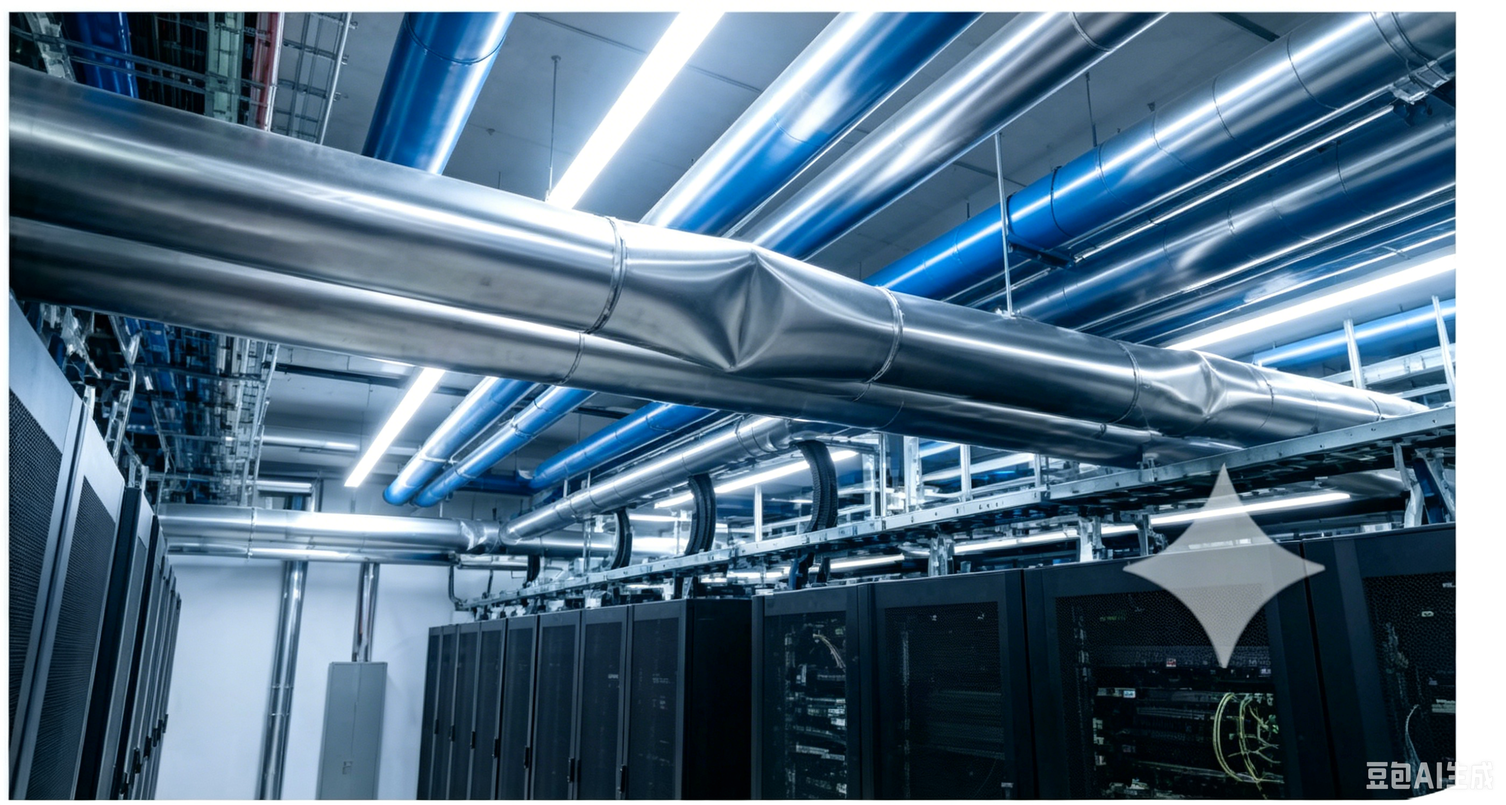Leakage: (686, 235, 817, 384), (1166, 346, 1266, 449)
